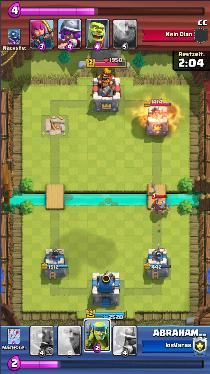ally_fireball: (141, 102, 180, 131)
enemy_knight: (151, 199, 170, 215)
